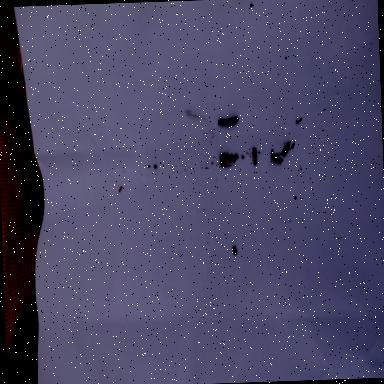pbw: (280, 141, 290, 156), (219, 159, 232, 167), (252, 146, 256, 166)
